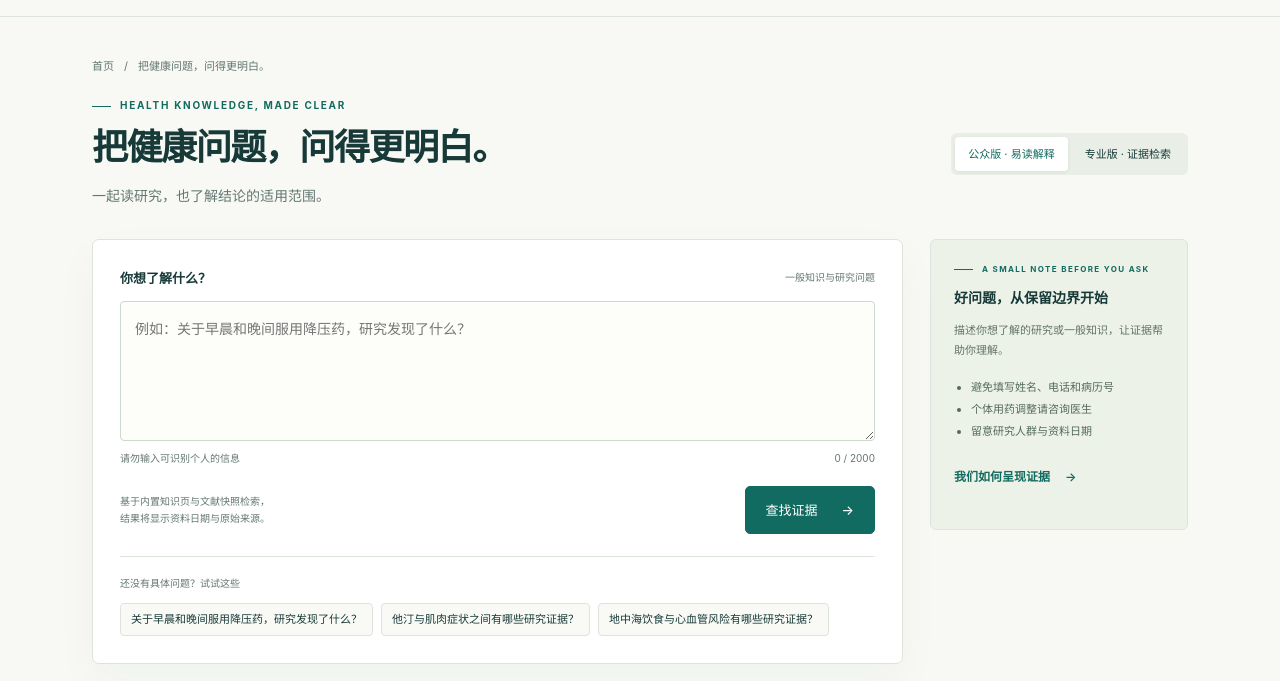
it: question workbench › offers an explicit retry after a network error without displaying raw exceptions
The image size is (1280, 681).
Type "一般问题" into the text box labelled "你想了解什么？" at (498, 371), box [120,301,875,441]
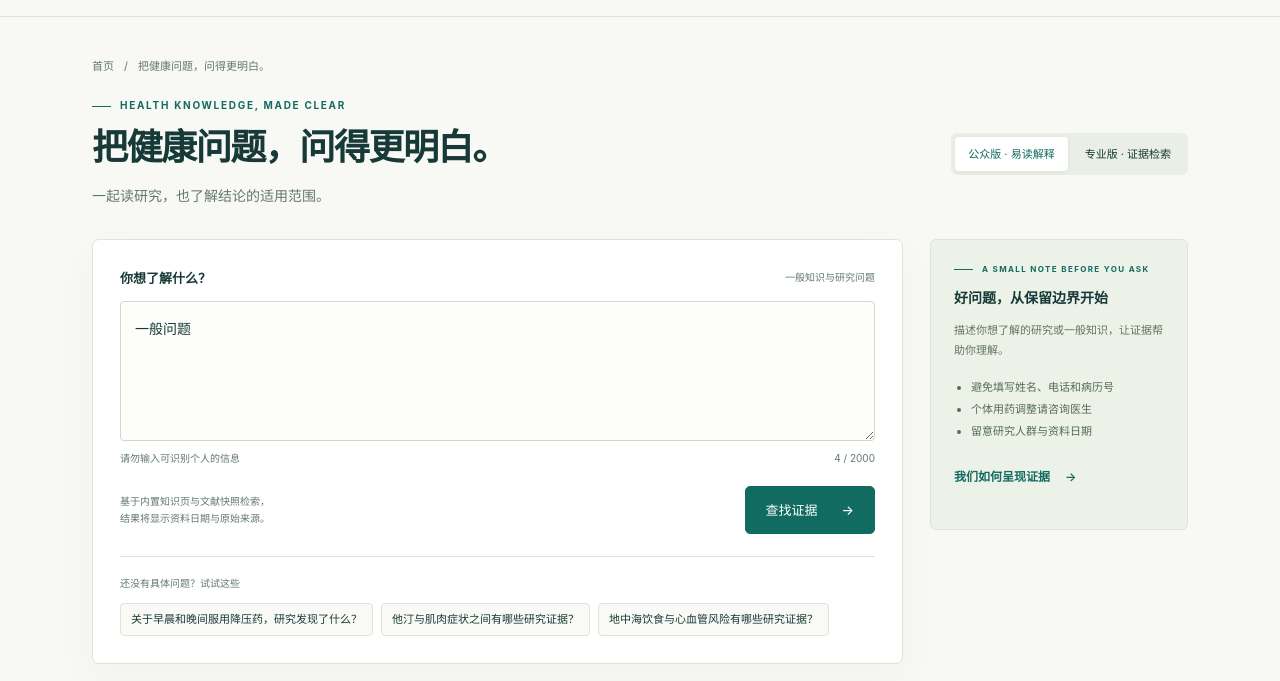
Click the button "查找证据 →" at (810, 510), box [745,486,875,534]
(page scrolled)
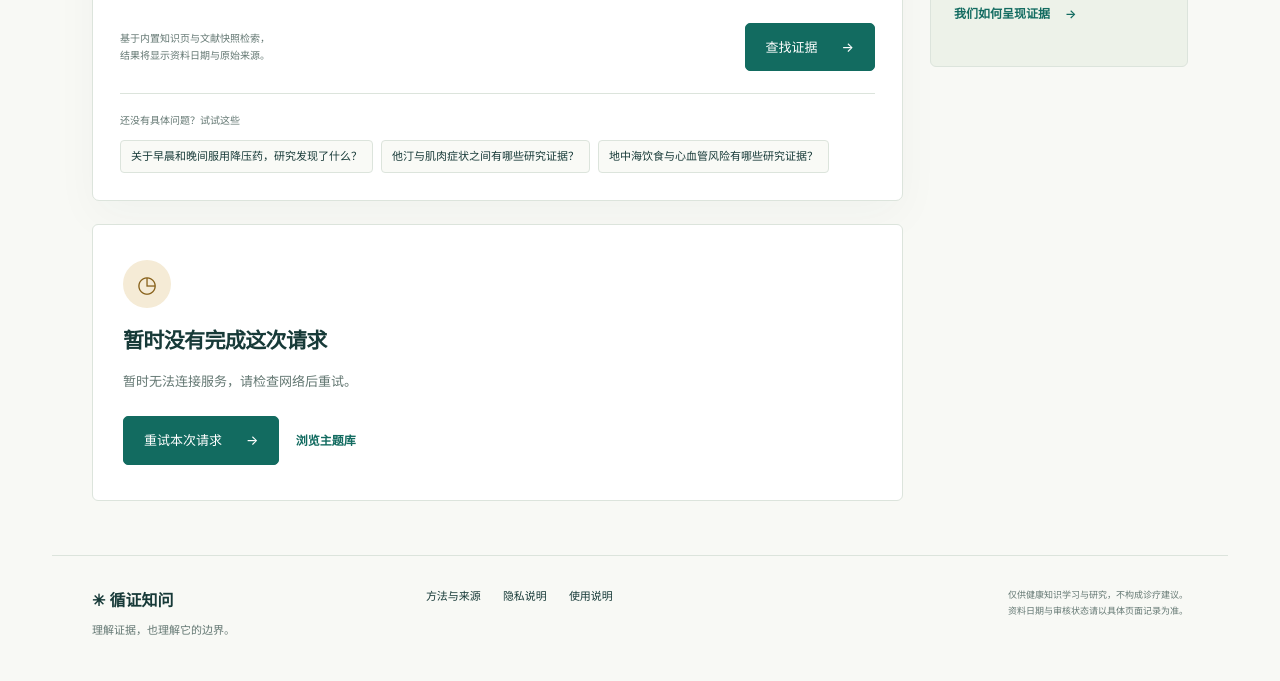
Now the button "重试本次请求 →" is shown, box [123,416,279,465]
